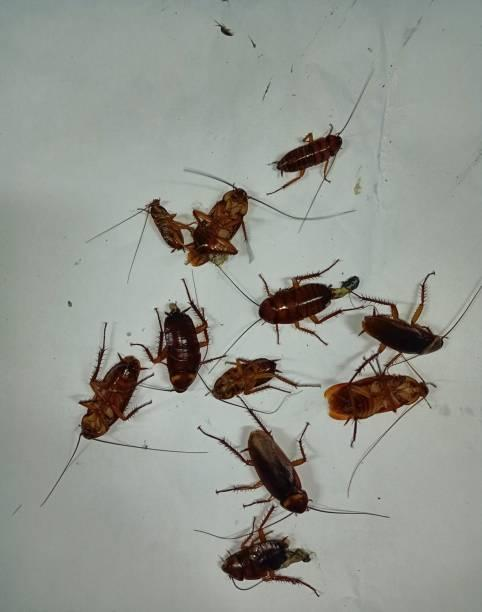cockroach: (180, 405, 418, 559), (20, 324, 181, 522), (284, 342, 468, 500), (127, 498, 351, 611), (222, 100, 405, 212), (151, 154, 284, 305), (96, 279, 243, 413), (191, 258, 365, 367), (175, 320, 331, 429), (64, 162, 191, 289), (330, 279, 474, 376)
